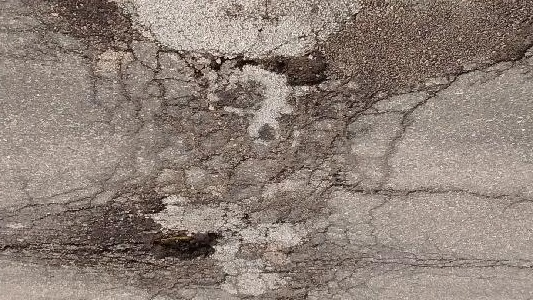pothole: (148, 228, 222, 263), (272, 47, 329, 88)
